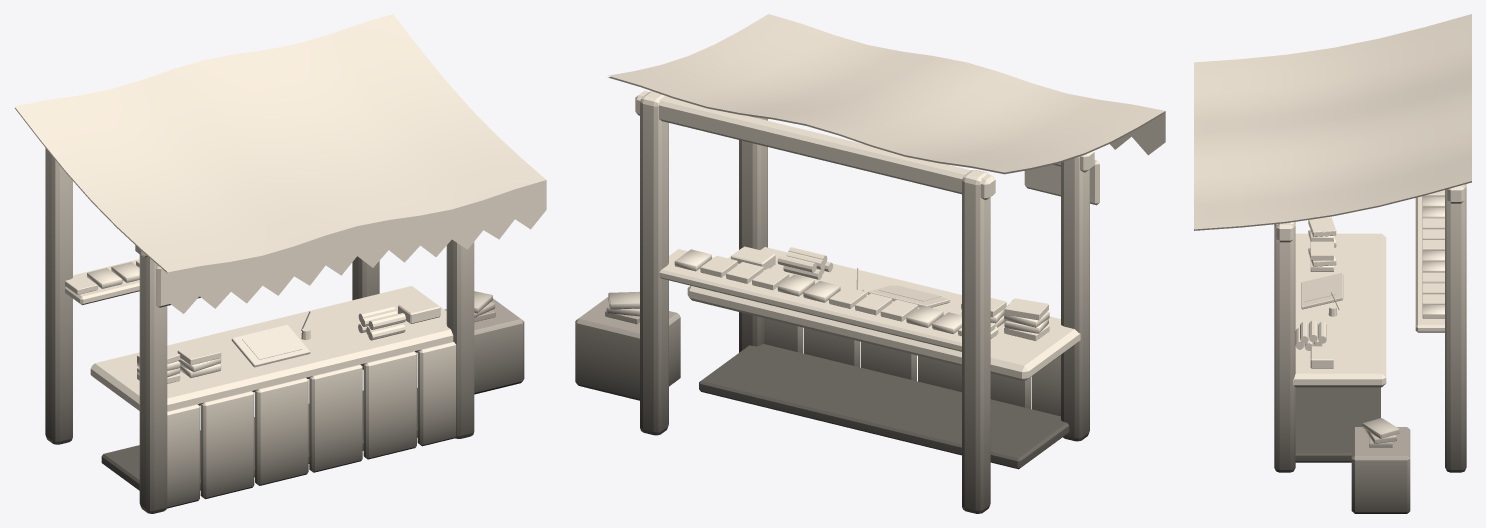
Rendered from SM_VK_MarketStall_Scribe.fbx.
3 renders of one model, left to right at view 1: azimuth 30°, elevation 25°; view 2: azimuth 150°, elevation 25°; view 3: azimuth 270°, elevation 25°, orthographic. The views are drawn at different scales.
Visible parts, largest first — view 1: SM_VK_MarketStall_Scribe.001; view 2: SM_VK_MarketStall_Scribe.001; view 3: SM_VK_MarketStall_Scribe.001.
Part boxes in pixels (x1,y1,x2,y2): SM_VK_MarketStall_Scribe.001: [14, 14, 546, 513]; SM_VK_MarketStall_Scribe.001: [575, 14, 1165, 513]; SM_VK_MarketStall_Scribe.001: [1194, 14, 1471, 513].
Size of the model in its own units: 4.35 by 3.15 by 2.6.
